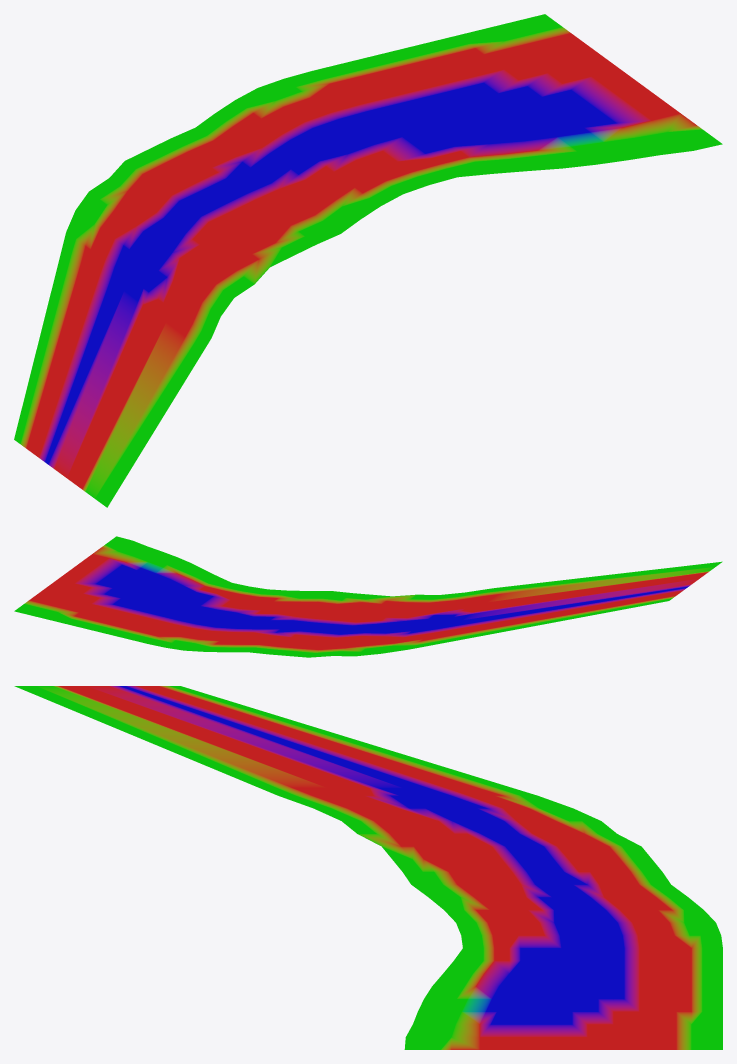
Rendered from RiverPlane6.fbx.
3 views of the same model, one above another, from view 1: azimuth 30°, elevation 25°; view 2: azimuth 150°, elevation 25°; view 3: azimuth 270°, elevation 25° (orthographic). The views are drawn at different scales.
Parts seen in each view (by area): view 1: pPlane1; view 2: pPlane1; view 3: pPlane1.
Part boxes in pixels (x1,y1,x2,y2): pPlane1: [14, 14, 722, 507]; pPlane1: [14, 536, 722, 657]; pPlane1: [14, 686, 722, 1049].
Bounding box in the file's own units: 31.82 × 0.0111 × 26.18.
